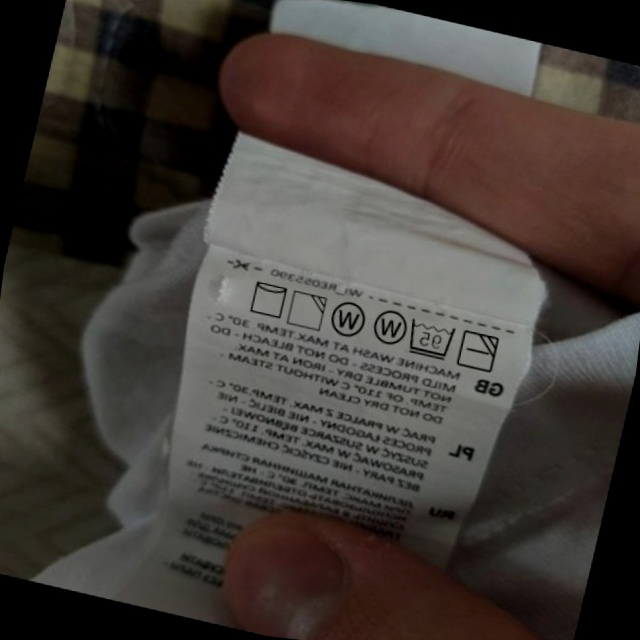95C: (402, 314, 459, 363)
dry_flat_in_shade: (454, 325, 503, 376)
line_dry: (244, 275, 292, 322)
shade_dry: (283, 286, 330, 334)
wet_clean: (325, 296, 370, 343), (367, 302, 411, 350)
